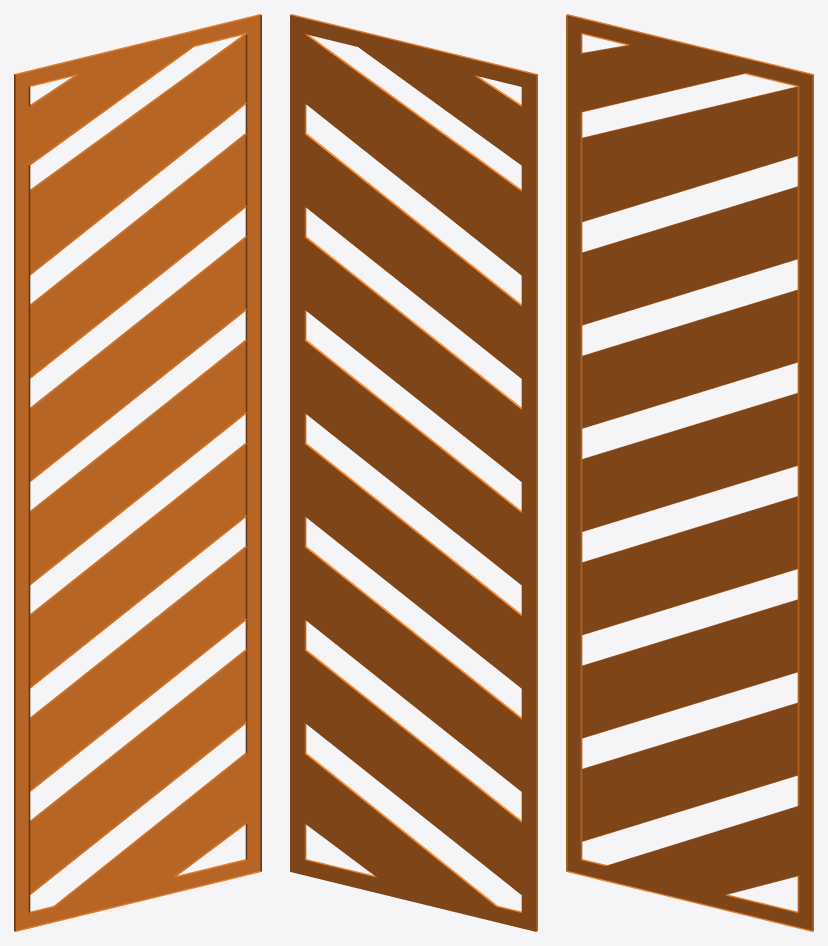
Rendered from TingJi1_Mo.fbx.
3 views of the same model, side by side, from view 1: azimuth 30°, elevation 25°; view 2: azimuth 150°, elevation 25°; view 3: azimuth 330°, elevation 25° (orthographic).
Visible parts, largest first — view 1: 对象002; view 2: 对象002; view 3: 对象002.
Part boxes in pixels (left/top/right/bottom): 对象002: left=14, top=14, right=261, bottom=931; 对象002: left=290, top=14, right=537, bottom=931; 对象002: left=566, top=14, right=813, bottom=931.
Size of the model in its own units: 809 by 2688 by 8.55.
Materials: 1 (1 with a texture image).
